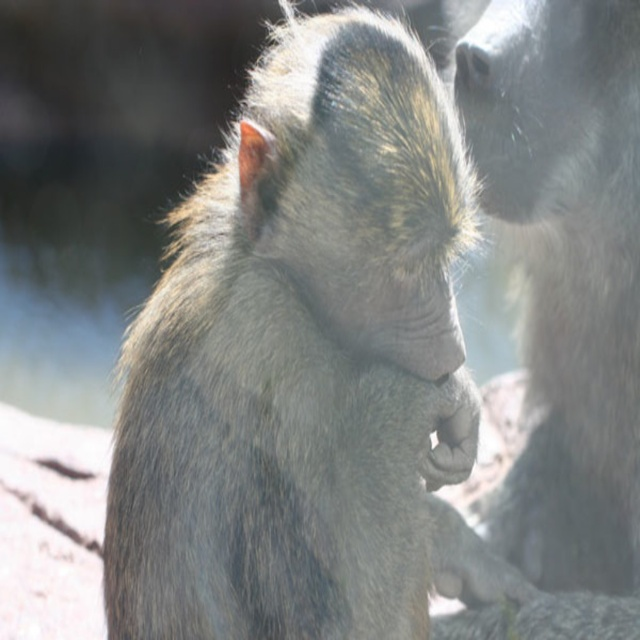Monkey: (90, 14, 547, 640)
